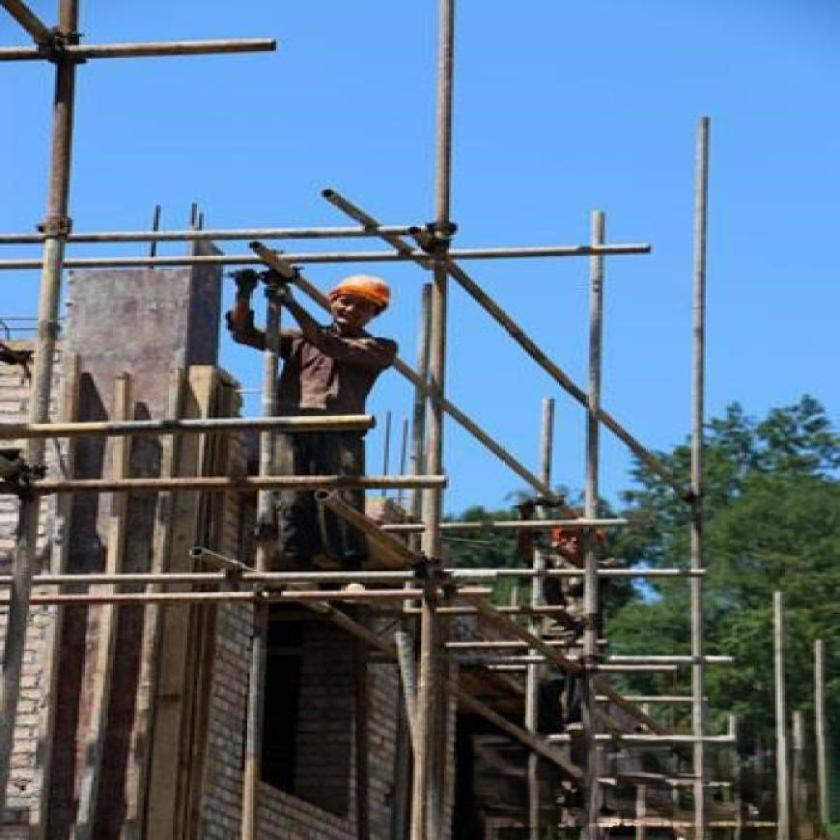Con_casco: (318, 262, 405, 336)
